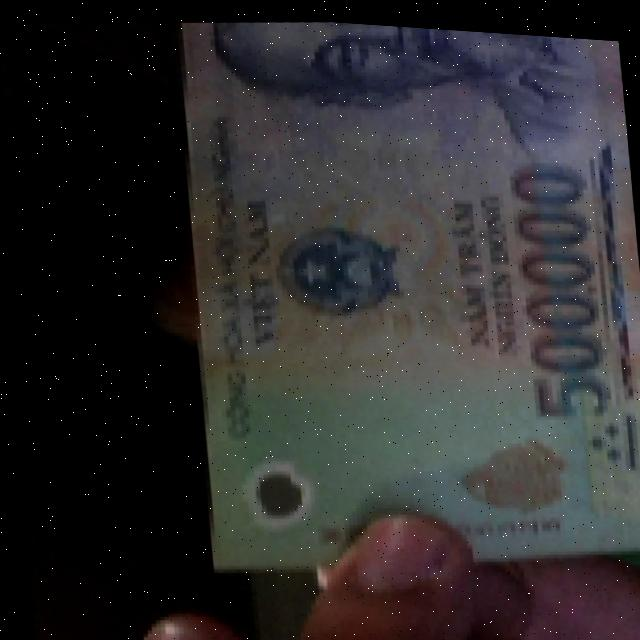500 000 VND: (154, 8, 640, 599)
